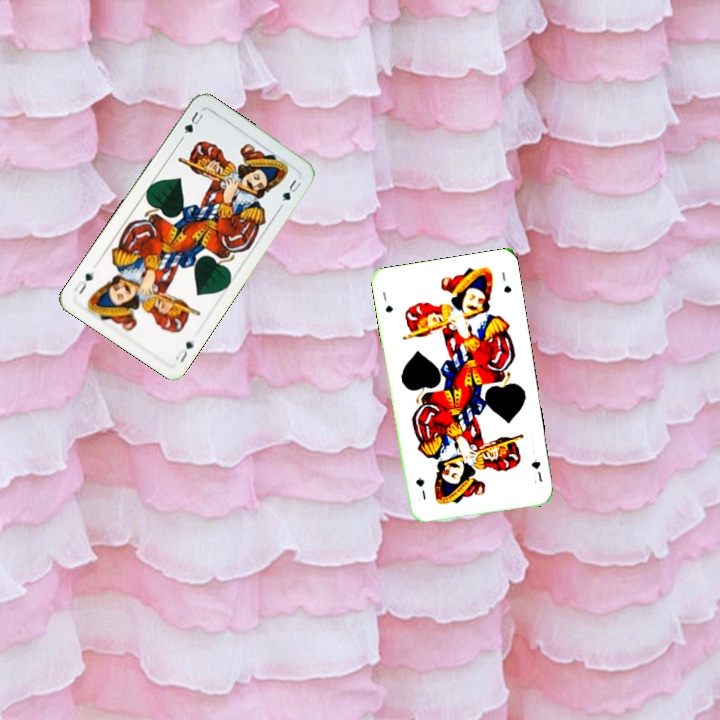GU: (180, 107, 207, 136), (171, 337, 197, 365), (527, 455, 545, 486), (378, 288, 396, 315)
